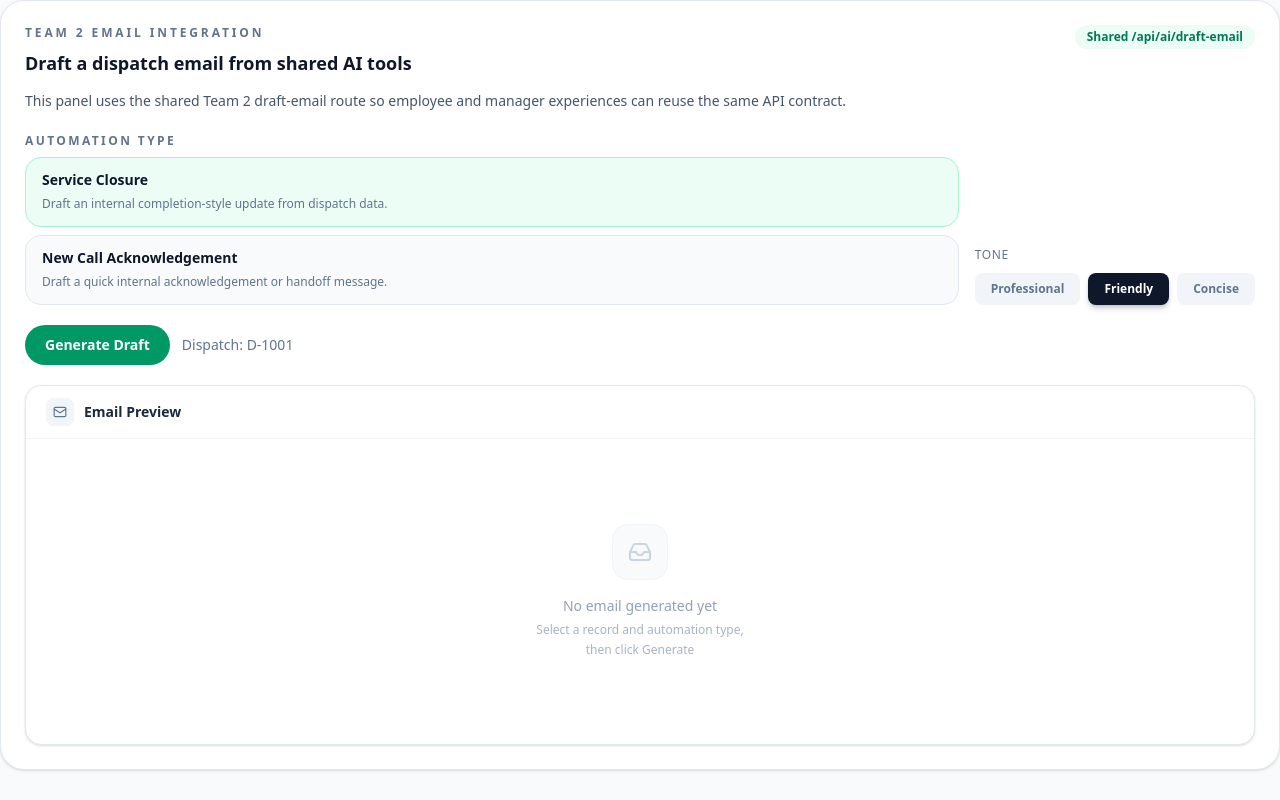
Scenario: EmployeeEmailAssistant › surfaces plain-text API errors when draft-email does not return JSON
Click the button "Generate Draft": (97,345) [25, 325, 170, 365]
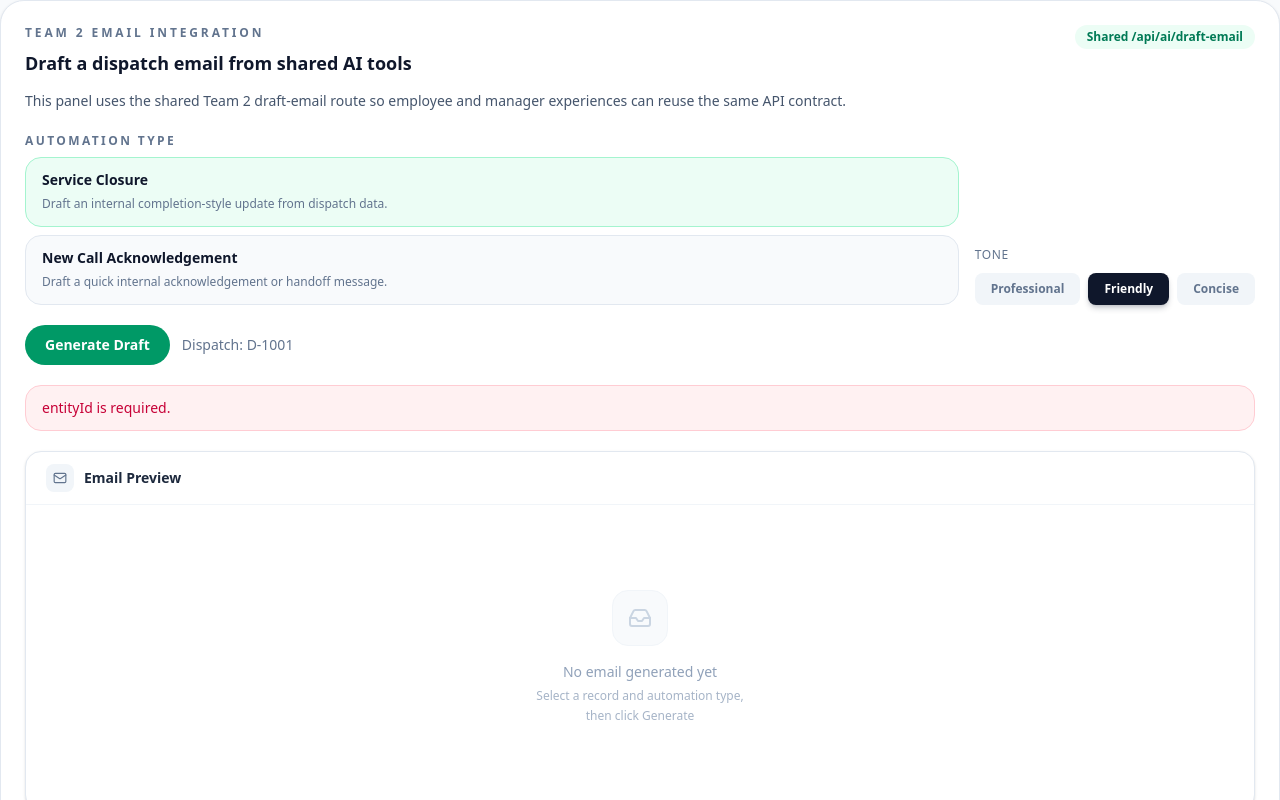
Now the text "entityId is required." is shown, box [25, 385, 1255, 431]
